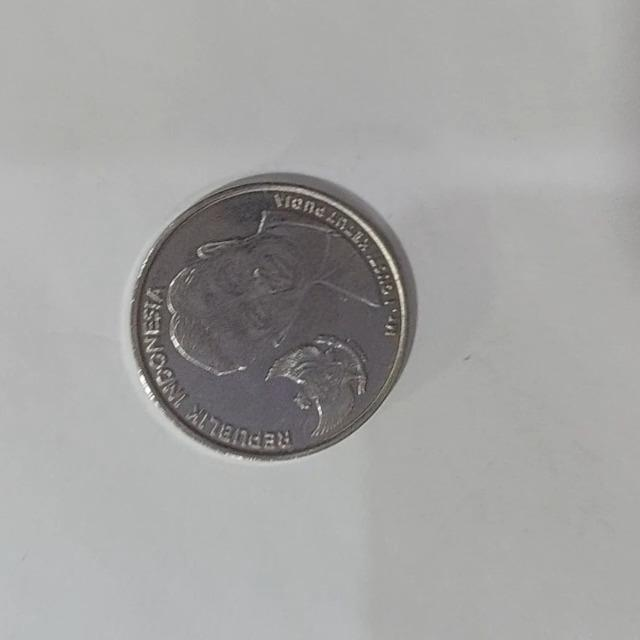Rp100: (127, 171, 416, 462)
